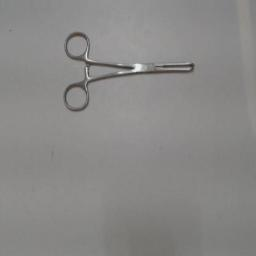Allis Tissue Forceps: (61, 27, 203, 119)
